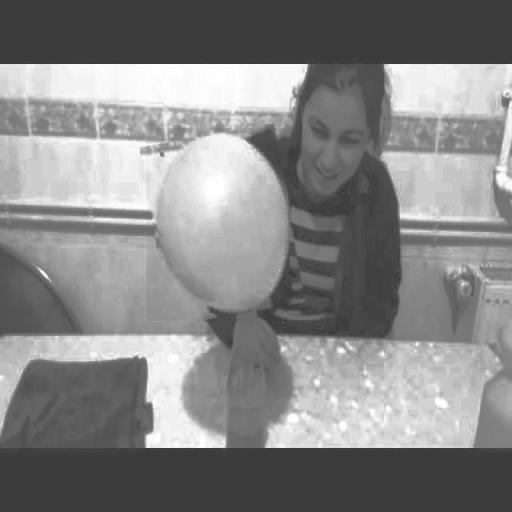balloon: (146, 128, 298, 321)
